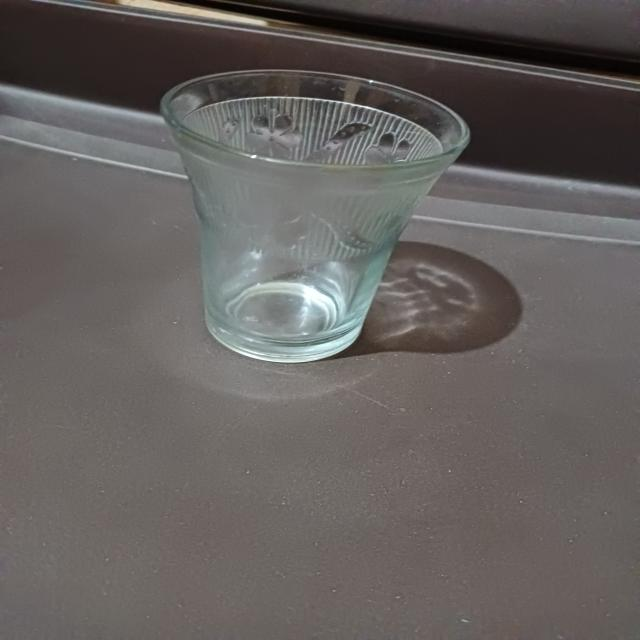Glass: (155, 65, 474, 366)
